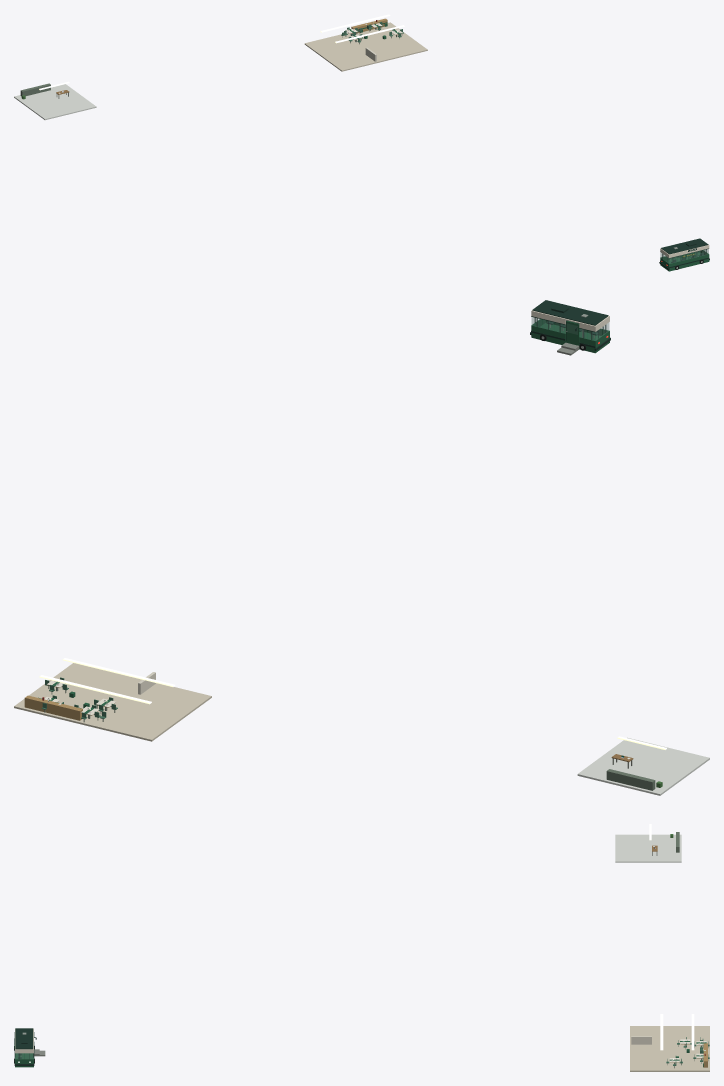
The model's file is before-opening.glb.
3 views of the same model, one above another, from view 1: azimuth 30°, elevation 25°; view 2: azimuth 150°, elevation 25°; view 3: azimuth 270°, elevation 25° (orthographic). The views are drawn at different scales.
Parts seen in each view (by area): view 1: opening-b5-floor, opening-b6-floor; view 2: opening-b5-floor, opening-b6-floor, opening-bus-roof-cap; view 3: opening-b5-floor, opening-b6-floor.
Part boxes in pixels (x1,y1,x2,y2): opening-b5-floor: (304,22,427,71); opening-b6-floor: (14,84,96,120); opening-b5-floor: (14,663,211,741); opening-b6-floor: (577,737,709,795); opening-bus-roof-cap: (532,300,608,325); opening-b5-floor: (630,1026,709,1071); opening-b6-floor: (615,834,681,862).
Size of the model in its own units: 68 by 7.81 by 98.38.
